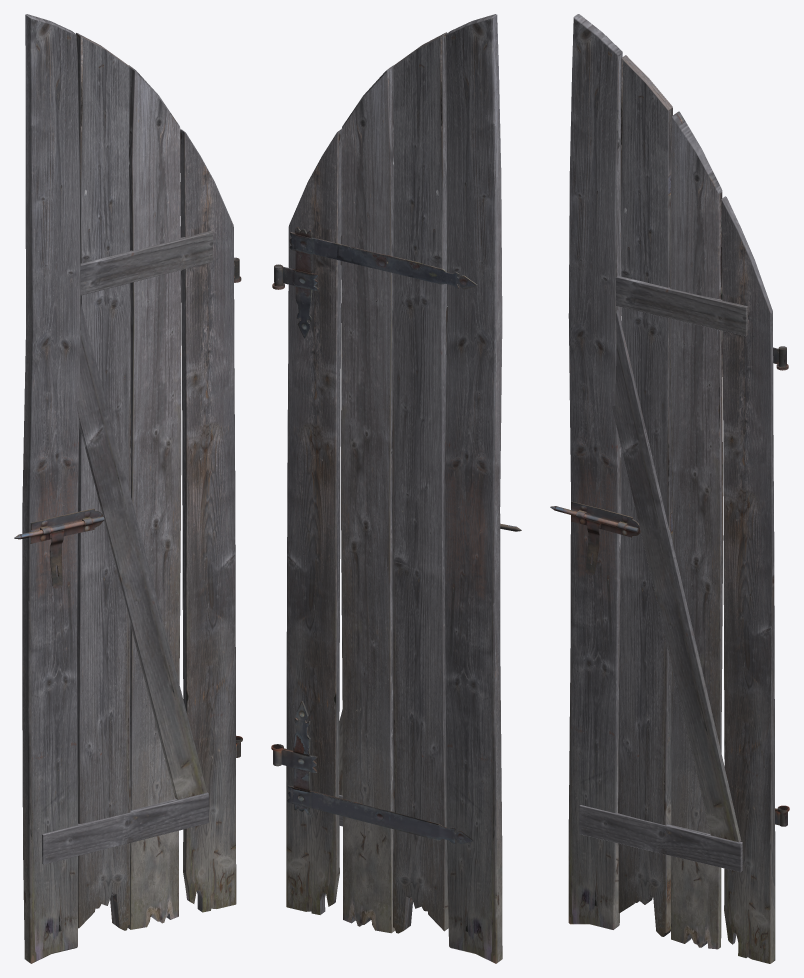
Rendered from SM_Door_02_02.fbx.
The picture shows the model from 3 angles, left to right: view 1: azimuth 30°, elevation 25°; view 2: azimuth 150°, elevation 25°; view 3: azimuth 330°, elevation 25°; orthographic projection. The views are drawn at different scales.
Parts seen in each view (by area): view 1: sm_Door_02_02_LOD0; view 2: sm_Door_02_02_LOD0; view 3: sm_Door_02_02_LOD0.
Boxes of the visible parts, x1,y1,x2,y2 form: sm_Door_02_02_LOD0: (14, 14, 242, 963); sm_Door_02_02_LOD0: (271, 14, 521, 963); sm_Door_02_02_LOD0: (550, 14, 789, 963).
Size of the model in its own units: 8.98 by 80.59 by 305.
